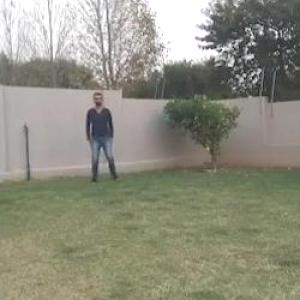follow: (89, 95, 109, 174)
